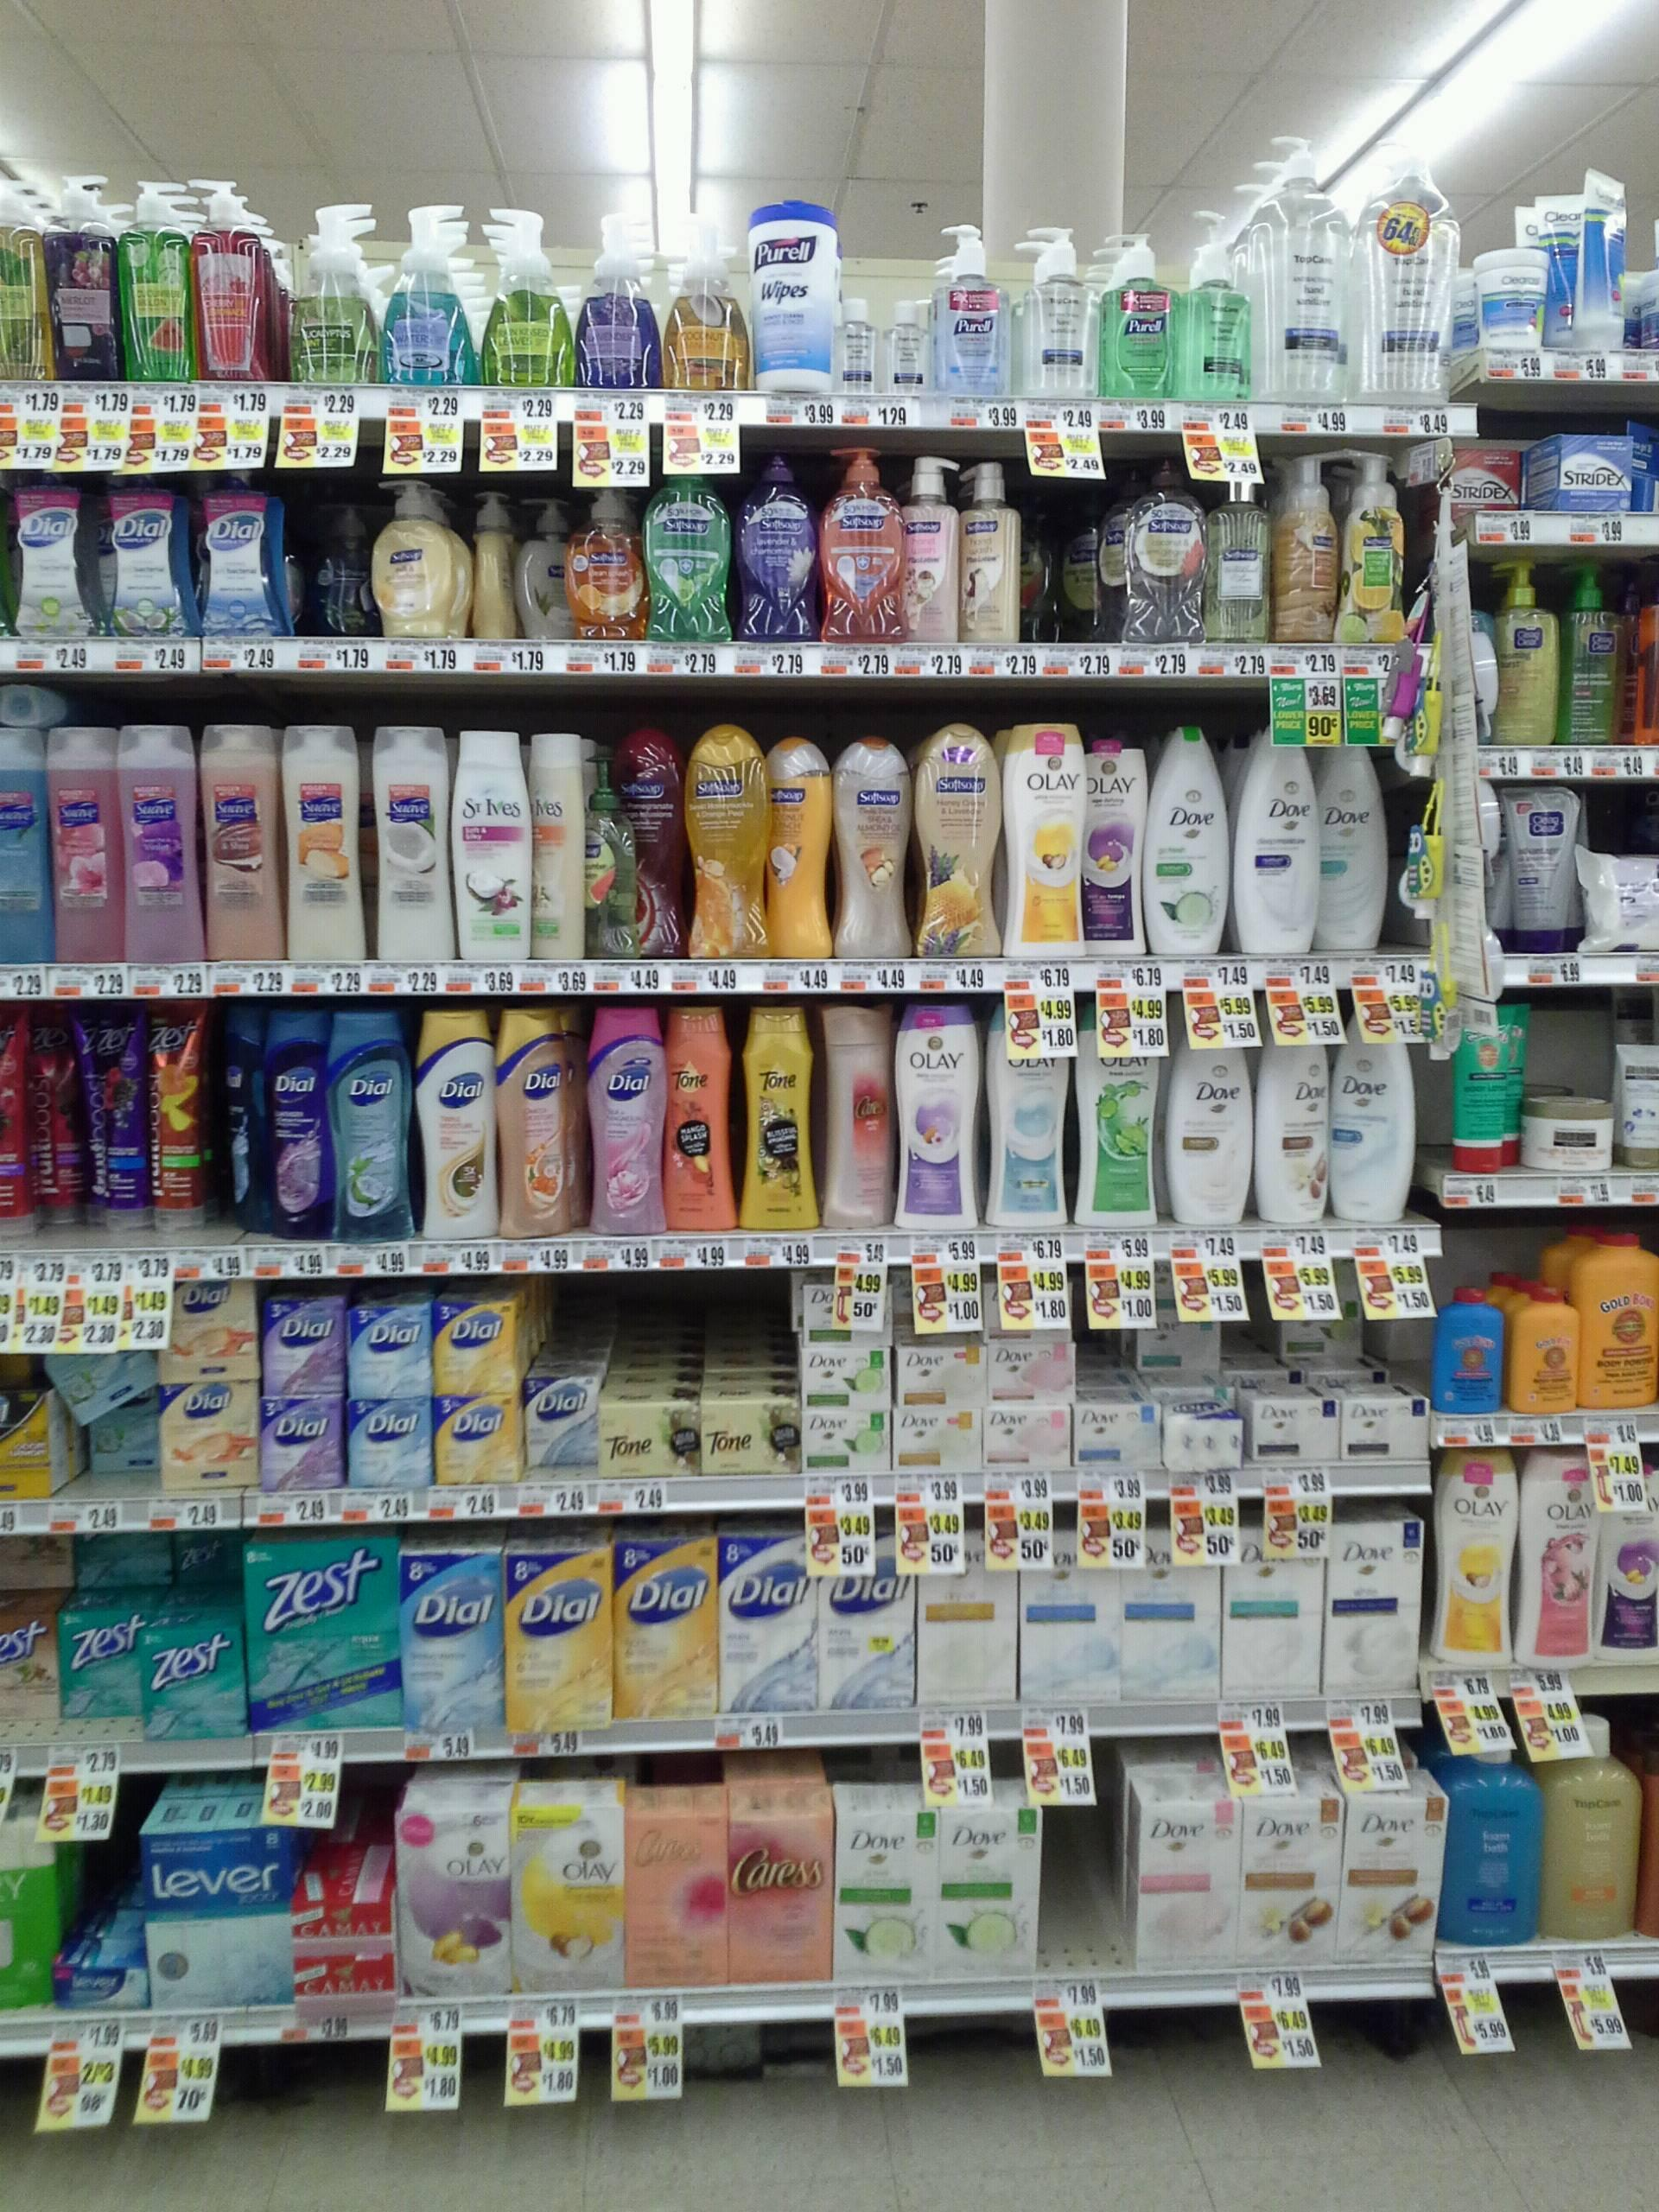empty: (1051, 1806, 1112, 1965)
misalignment: (465, 486, 566, 651), (584, 749, 645, 961), (1016, 503, 1098, 641), (37, 1339, 155, 1430), (214, 1012, 261, 1228)
